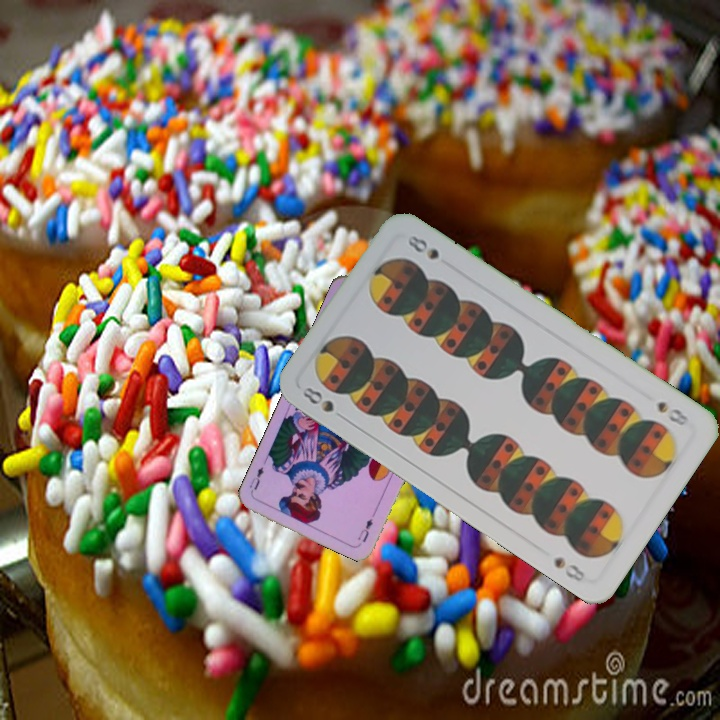EU: (353, 515, 376, 545)
S8: (296, 383, 337, 415), (653, 397, 692, 429)
